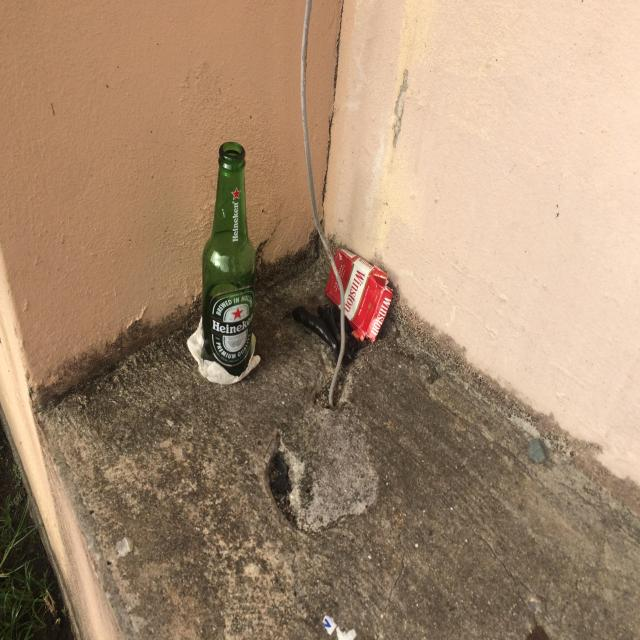litter: (201, 141, 256, 375), (324, 249, 396, 344)
